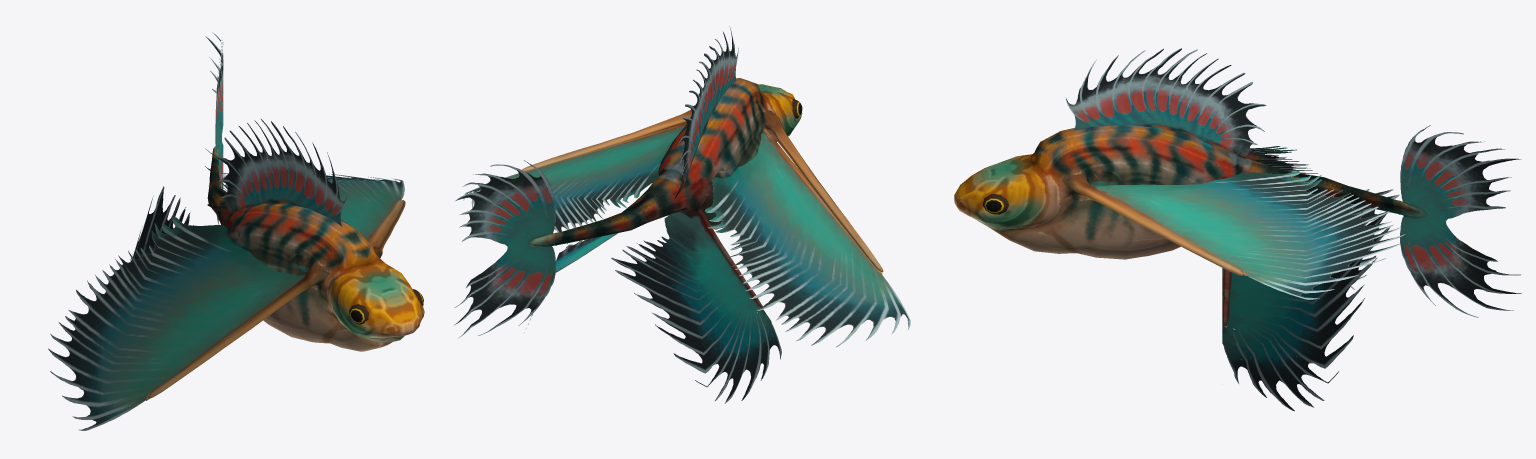
The model's file is fish_000035.obj.
3 renders of one model, left to right at view 1: azimuth 30°, elevation 25°; view 2: azimuth 150°, elevation 25°; view 3: azimuth 270°, elevation 25°, orthographic. The views are drawn at different scales.
Visible parts, largest first — view 1: flyingFish_low_StingrayPBS1_0; view 2: flyingFish_low_StingrayPBS1_0; view 3: flyingFish_low_StingrayPBS1_0.
Boxes of the visible parts, x1=… form: flyingFish_low_StingrayPBS1_0: x1=48, y1=32, x2=424, y2=430; flyingFish_low_StingrayPBS1_0: x1=454, y1=26, x2=910, y2=403; flyingFish_low_StingrayPBS1_0: x1=954, y1=48, x2=1521, y2=411.
Size of the model in its own units: 17.05 by 13.59 by 19.61.
1 material, 1 textured.
